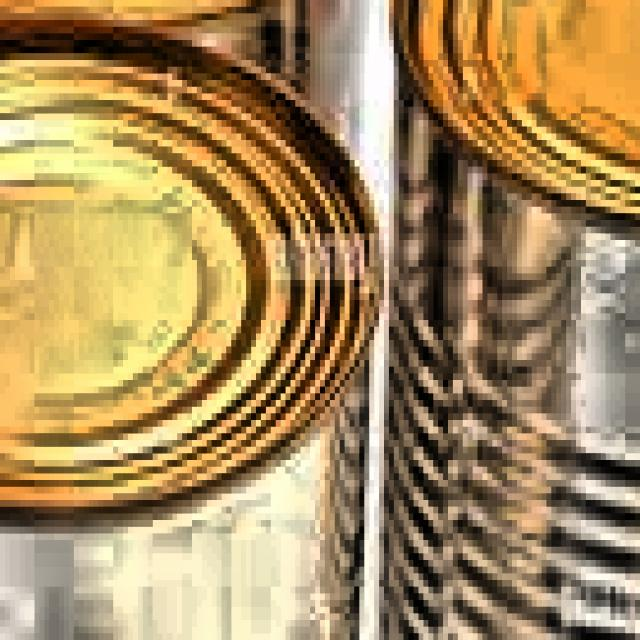metal: (0, 6, 389, 640), (364, 0, 640, 640), (0, 0, 379, 193)
